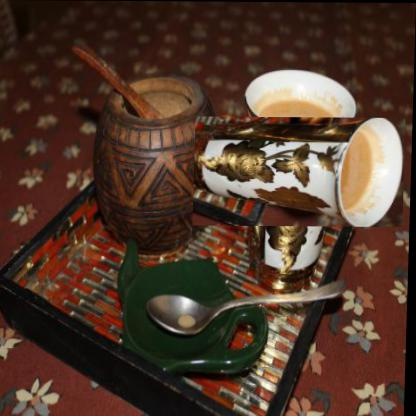milk_based_beverage: (218, 91, 383, 253)
